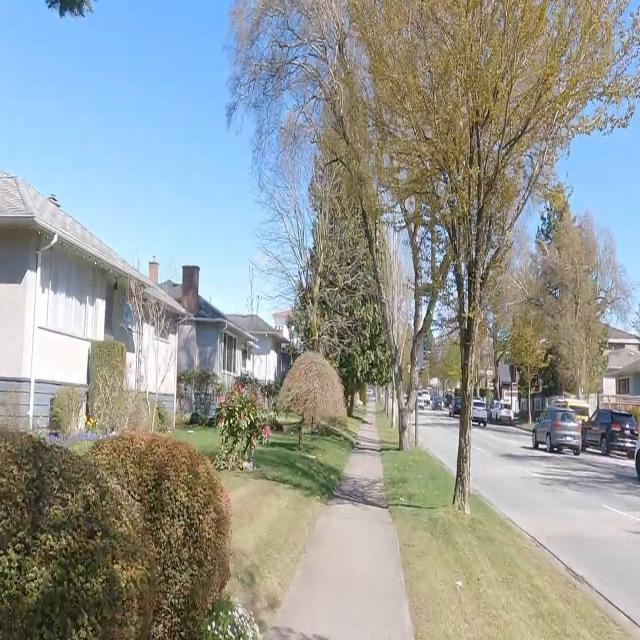Automobile: (583, 408, 636, 456), (533, 406, 581, 455), (471, 399, 487, 426), (449, 388, 461, 416)
Road: (473, 425, 639, 625), (420, 415, 456, 472)
Sidewalk: (270, 416, 414, 639)
